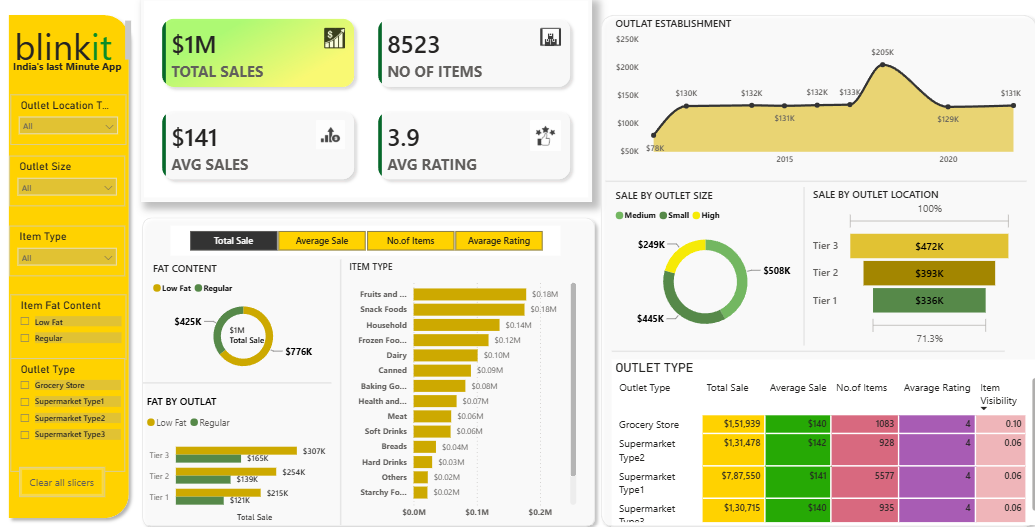

This screenshot's page, from the dashboard's own definition file:
{"tool":"powerbi","page":{"name":"Page 1","canvas":[1400,720],"ordinal":0},"visuals":[{"type":"shape","box":[11,15.1,178.4,688.9],"z":0},{"type":"textbox","box":[23.3,26.1,166,67.2],"z":1000},{"type":"textbox","box":[22,78.2,155.1,28.8],"z":2000},{"type":"cardVisual","fields":{"Data":["BlinkIT Grocery Data.Total Sale","BlinkIT Grocery Data.No.of Items","BlinkIT Grocery Data.Average Sale","BlinkIT Grocery Data.Avarage Rating"]},"box":[196.2,0,602.4,273.1],"z":3000},{"type":"shape","box":[189.4,285.4,621.6,430.9],"z":4000},{"type":"slicer","fields":{"Values":["Matrix 2.Matrix"]},"box":[237.4,304.6,520.1,39.8],"z":5000},{"type":"donutChart","title":"FAT CONTENT","fields":{"Y":["BlinkIT Grocery Data.Total Sale"],"Category":["BlinkIT Grocery Data.Item Fat Content"]},"box":[208.6,351.3,251.1,156.4],"z":6000},{"type":"cardVisual","fields":{"Data":["BlinkIT Grocery Data.Total Sale"]},"box":[299.1,419.9,89.2,67.2],"z":7000},{"type":"clusteredBarChart","title":"FAT BY OUTLAT","fields":{"Y":["BlinkIT Grocery Data.Total Sale"],"Category":["BlinkIT Grocery Data.Outlet Location Type"],"Series":["BlinkIT Grocery Data.Item Fat Content"]},"box":[200.3,529.7,259.3,174.3],"z":8000},{"type":"shape","box":[456.9,349.9,13.7,354],"z":9000},{"type":"shape","box":[200.3,507.7,251.1,12.3],"z":10000},{"type":"barChart","title":"ITEM TYPE","fields":{"Y":["BlinkIT Grocery Data.Total Sale"],"Category":["BlinkIT Grocery Data.Item Type"]},"box":[470.7,351.3,312.9,352.7],"z":11000},{"type":"shape","box":[801.4,15.7,598.6,701.4],"z":12000},{"type":"lineChart","title":"OUTLAT ESTABLISHMENT","fields":{"Y":["BlinkIT Grocery Data.Total Sale"],"Category":["BlinkIT Grocery Data.Outlet Establishment Year"]},"box":[825.7,25.7,552.9,208.6],"z":13000},{"type":"shape","box":[817.1,234.3,561.4,21.4],"z":14000},{"type":"donutChart","title":"SALE BY OUTLET SIZE","fields":{"Y":["BlinkIT Grocery Data.Total Sale"],"Category":["BlinkIT Grocery Data.Outlet Size"]},"box":[825.7,255.7,250,204.3],"z":15000},{"type":"funnel","title":"SALE BY OUTLET LOCATION","fields":{"Y":["BlinkIT Grocery Data.Total Sale"],"Category":["BlinkIT Grocery Data.Outlet Location Type"]},"box":[1088.6,252.9,275.7,217.1],"z":16000},{"type":"shape","box":[1075.7,252.9,12.9,211.4],"z":17000},{"type":"shape","box":[825.7,461.4,524.3,21.4],"z":18000},{"type":"pivotTable","title":"OUTLET TYPE","fields":{"Rows":["BlinkIT Grocery Data.Outlet Type"],"Values":["BlinkIT Grocery Data.Total Sale","BlinkIT Grocery Data.Average Sale","BlinkIT Grocery Data.No.of Items","BlinkIT Grocery Data.Avarage Rating","Avg(BlinkIT Grocery Data.Item Visibility)"]},"box":[825.7,482.9,574.3,221.4],"z":19000},{"type":"slicer","fields":{"Values":["BlinkIT Grocery Data.Outlet Location Type"]},"box":[23,130,154,67],"z":20000},{"type":"slicer","fields":{"Values":["BlinkIT Grocery Data.Outlet Size"]},"box":[22,212,154,67],"z":21000},{"type":"slicer","fields":{"Values":["BlinkIT Grocery Data.Item Type"]},"box":[22,305,154,67],"z":22000},{"type":"slicer","fields":{"Values":["BlinkIT Grocery Data.Item Fat Content"]},"box":[23,397,154,86],"z":23000},{"type":"slicer","fields":{"Values":["Table1.Outlet Type"]},"box":[23,482,153,151],"z":24000},{"type":"actionButton","box":[35,626,114,40],"z":24002}]}

Visuals, with their boxes in screenshot pixels (x1, y1, x2, y2), scaled from the page's 1400x720 canvas onto the 1035x527 screenshot:
shape: detection(8, 11, 140, 515)
textbox: detection(17, 19, 140, 68)
textbox: detection(16, 57, 131, 78)
cardVisual - BlinkIT Grocery Data.Total Sale x BlinkIT Grocery Data.No.of Items: detection(145, 0, 590, 200)
shape: detection(140, 209, 600, 524)
slicer - Matrix 2.Matrix: detection(176, 223, 560, 252)
"FAT CONTENT" donutChart: detection(154, 257, 340, 372)
cardVisual - BlinkIT Grocery Data.Total Sale: detection(221, 307, 287, 357)
"FAT BY OUTLAT" clusteredBarChart: detection(148, 388, 340, 515)
shape: detection(338, 256, 348, 515)
shape: detection(148, 372, 334, 381)
"ITEM TYPE" barChart: detection(348, 257, 579, 515)
shape: detection(592, 11, 1034, 525)
"OUTLAT ESTABLISHMENT" lineChart: detection(610, 19, 1019, 171)
shape: detection(604, 171, 1019, 187)
"SALE BY OUTLET SIZE" donutChart: detection(610, 187, 795, 337)
"SALE BY OUTLET LOCATION" funnel: detection(805, 185, 1009, 344)
shape: detection(795, 185, 805, 340)
shape: detection(610, 338, 998, 353)
"OUTLET TYPE" pivotTable: detection(610, 353, 1034, 516)
slicer - BlinkIT Grocery Data.Outlet Location Type: detection(17, 95, 131, 144)
slicer - BlinkIT Grocery Data.Outlet Size: detection(16, 155, 130, 204)
slicer - BlinkIT Grocery Data.Item Type: detection(16, 223, 130, 272)
slicer - BlinkIT Grocery Data.Item Fat Content: detection(17, 291, 131, 354)
slicer - Table1.Outlet Type: detection(17, 353, 130, 463)
actionButton: detection(26, 458, 110, 487)
